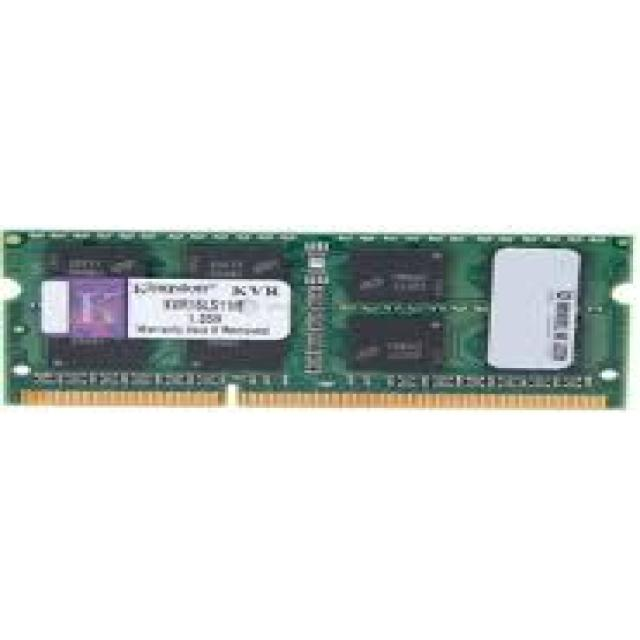Ram: (48, 169, 617, 458)
